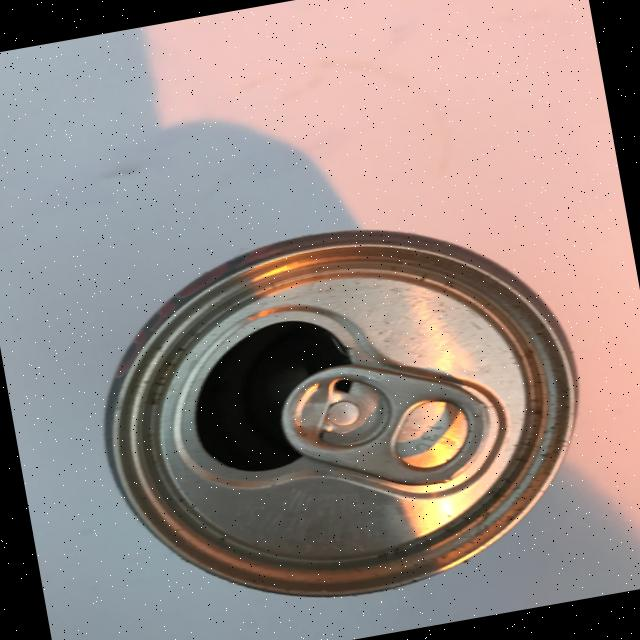metal: (74, 191, 609, 634)
